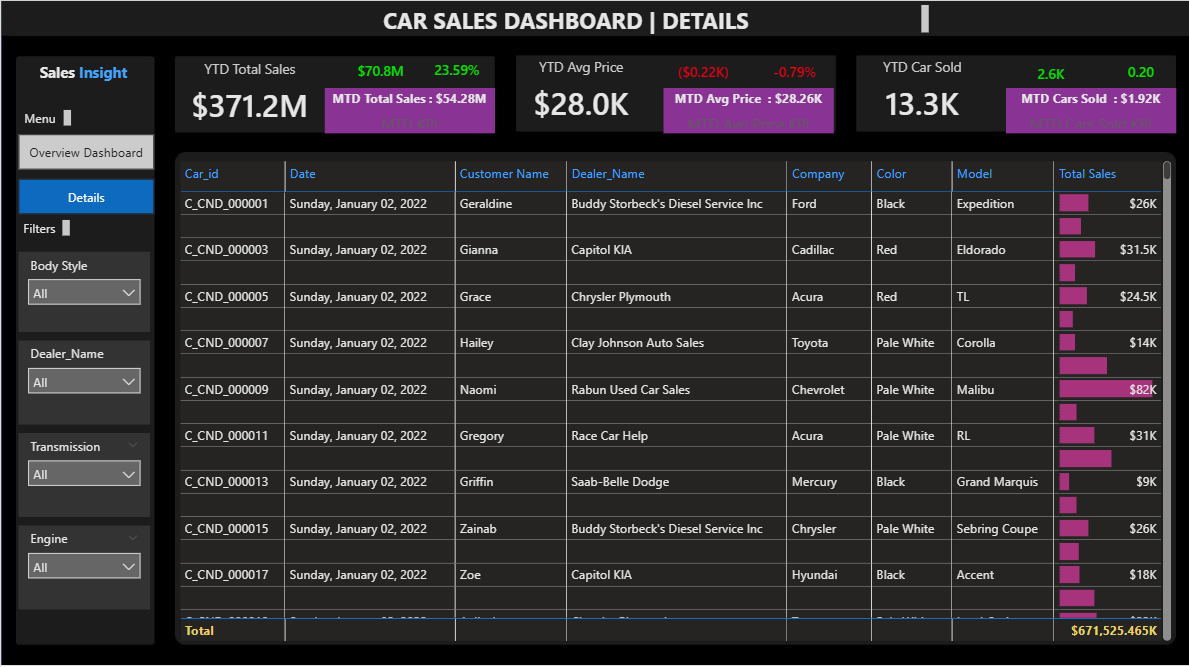

This screenshot's page, from the dashboard's own definition file:
{"tool":"powerbi","page":{"name":"Details","canvas":[1280,720],"ordinal":1},"visuals":[{"type":"card","title":"YTD Total Sales","fields":{"Values":["car_data.YTD Total sales"]},"box":[186.9,65.9,161.4,79.3],"z":0},{"type":"card","fields":{"Values":["car_data.Sales Difference"]},"box":[366.8,62.9,82.7,36],"z":1000},{"type":"card","fields":{"Values":["car_data.YoY Sales Growth"]},"box":[449.8,62.3,82.6,35.2],"z":2000},{"type":"card","fields":{"Values":["car_data.MTD KPI"]},"box":[348.3,96.8,182.9,48.4],"z":3000},{"type":"card","title":"YTD Avg Price","fields":{"Values":["car_data.YTD Avg Price"]},"box":[543.3,63.2,161.4,79.3],"z":4000},{"type":"card","fields":{"Values":["car_data.Avg Price Diff"]},"box":[714.1,63.2,83.4,36.3],"z":5000},{"type":"card","fields":{"Values":["car_data.YoY Avg Price Growth"]},"box":[812.3,63.2,83.4,36.3],"z":6000},{"type":"card","fields":{"Values":["car_data.MTD Avg Price KPI"]},"box":[712.8,96.8,182.9,48.4],"z":7000},{"type":"card","title":"YTD Car Sold","fields":{"Values":["car_data.YTD Cars Sold"]},"box":[910.4,63.2,161.4,79.3],"z":8000},{"type":"card","fields":{"Values":["car_data.Cars Sold Diff"]},"box":[1088,65.9,83.4,36.3],"z":9000},{"type":"card","fields":{"Values":["car_data.YoY Car Sold Growth"]},"box":[1184.8,63.2,83.4,36.3],"z":10000},{"type":"card","fields":{"Values":["car_data.MTD Cars Sold KPI"]},"box":[1081.2,96.8,182.9,48.4],"z":11000},{"type":"textbox","box":[406.1,2.7,597.1,48.4],"z":12000},{"type":"slicer","fields":{"Values":["car_data.Body Style"]},"box":[18.8,273,141.2,86.1],"z":13000},{"type":"slicer","fields":{"Values":["car_data.Dealer_Name"]},"box":[18.8,368.5,141.2,90.1],"z":14000},{"type":"slicer","fields":{"Values":["car_data.Transmission"]},"box":[18.8,468,141.2,90.1],"z":15000},{"type":"slicer","fields":{"Values":["car_data.Engine"]},"box":[18.8,567.5,141.2,90.1],"z":16000},{"type":"textbox","box":[18.8,234,60.5,26.9],"z":17000},{"type":"tableEx","fields":{"Values":["car_data.Car_id","car_data.Date","car_data.Customer Name","car_data.Dealer_Name","car_data.Company","car_data.Color","car_data.Model","car_data.Price ($)"]},"box":[186.9,170.8,1077.2,525.8],"z":18000},{"type":"textbox","box":[13.4,63.2,150.6,40.3],"z":19000},{"type":"pageNavigator","box":[18.8,146.6,146.6,86.1],"z":20000},{"type":"textbox","box":[20.2,115.7,60.5,26.9],"z":21000}]}

Visuals, with their boxes on the page's 1280x720 design canvas (x1, y1, x2, y2). These are canvas units, not pixel positions in the 1189x667 screenshot, which may show the page scaled, cropped or inside an application window:
"YTD Total Sales" card: select_region(187, 66, 348, 145)
card - car_data.Sales Difference: select_region(367, 63, 450, 99)
card - car_data.YoY Sales Growth: select_region(450, 62, 532, 98)
card - car_data.MTD KPI: select_region(348, 97, 531, 145)
"YTD Avg Price" card: select_region(543, 63, 705, 142)
card - car_data.Avg Price Diff: select_region(714, 63, 798, 100)
card - car_data.YoY Avg Price Growth: select_region(812, 63, 896, 100)
card - car_data.MTD Avg Price KPI: select_region(713, 97, 896, 145)
"YTD Car Sold" card: select_region(910, 63, 1072, 142)
card - car_data.Cars Sold Diff: select_region(1088, 66, 1171, 102)
card - car_data.YoY Car Sold Growth: select_region(1185, 63, 1268, 100)
card - car_data.MTD Cars Sold KPI: select_region(1081, 97, 1264, 145)
textbox: select_region(406, 3, 1003, 51)
slicer - car_data.Body Style: select_region(19, 273, 160, 359)
slicer - car_data.Dealer_Name: select_region(19, 368, 160, 459)
slicer - car_data.Transmission: select_region(19, 468, 160, 558)
slicer - car_data.Engine: select_region(19, 568, 160, 658)
textbox: select_region(19, 234, 79, 261)
tableEx - car_data.Car_id x car_data.Date: select_region(187, 171, 1264, 697)
textbox: select_region(13, 63, 164, 104)
pageNavigator: select_region(19, 147, 165, 233)
textbox: select_region(20, 116, 81, 143)
